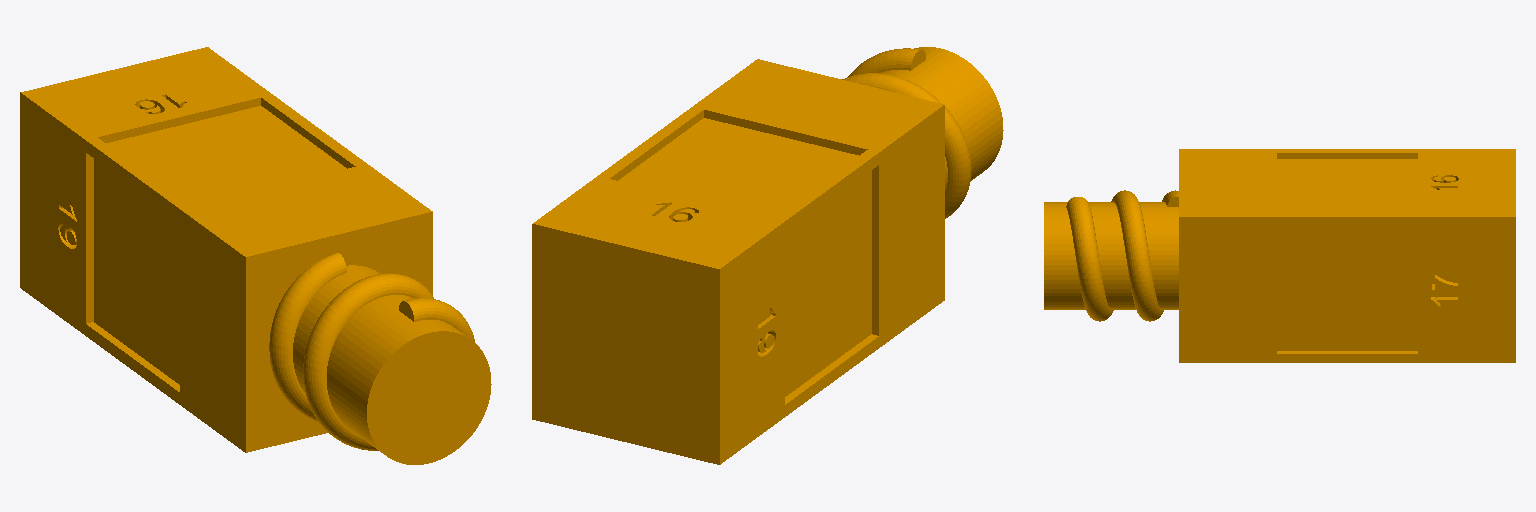
The robot description file, URDF, robot "square_table_leg3":
<?xml version="1.0"?>
<robot name="square_table_leg3">
    <link name="square_table_leg3">
        <visual>
            <geometry>
                <mesh filename="../mesh/square_table/square_table_leg3.obj" scale="1 1 1"/>
            </geometry>
        </visual>
        <collision>
            <geometry>
                <mesh filename="../mesh/square_table/square_table_leg3.obj" scale="1 1 1"/>
            </geometry>
            <sdf resolution="512"/>
        </collision>
    </link>
</robot>

--- Facts derived from the render (not from the file) ---
The picture shows the robot from 3 angles, left to right: view 1: azimuth 30°, elevation 25°; view 2: azimuth 150°, elevation 25°; view 3: azimuth 270°, elevation 25°; orthographic projection.
Robot: square_table_leg3 — 1 links, 0 joints (none); root link square_table_leg3; default pose: all joints at 0.
Links seen in each view (by area): view 1: square_table_leg3; view 2: square_table_leg3; view 3: square_table_leg3.
Boxes of the visible links, x1,y1,x2,y2 form: square_table_leg3: (20, 47, 491, 464); square_table_leg3: (532, 47, 1003, 464); square_table_leg3: (1044, 149, 1515, 362).
Size in the robot's own frame: 0.03 by 0.0875 by 0.03 metres.
Meshes: 1 distinct files referenced, 1 mesh visuals loaded (1 OBJ).